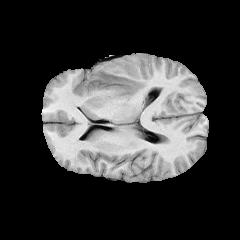glioma: (94, 66, 146, 99)
